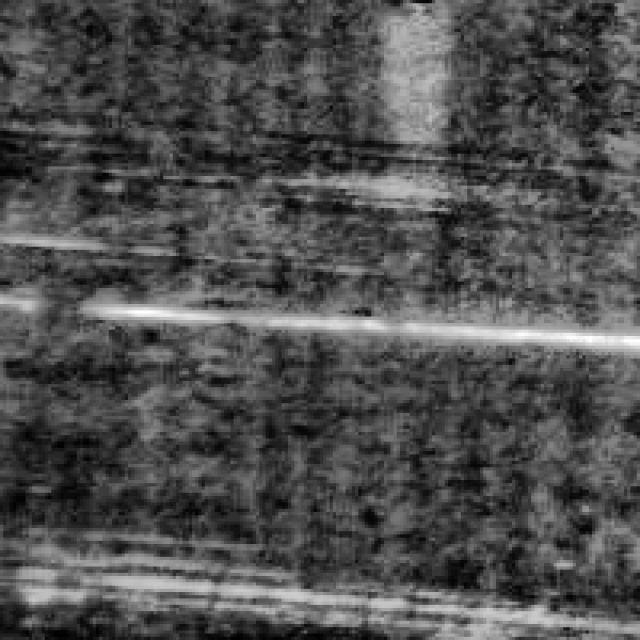Inclusion: (83, 291, 634, 355)
